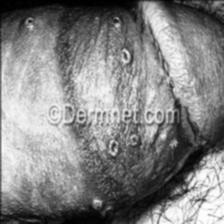Toxin: (90, 188, 103, 213), (106, 136, 118, 156), (21, 16, 36, 32), (119, 46, 132, 64)
